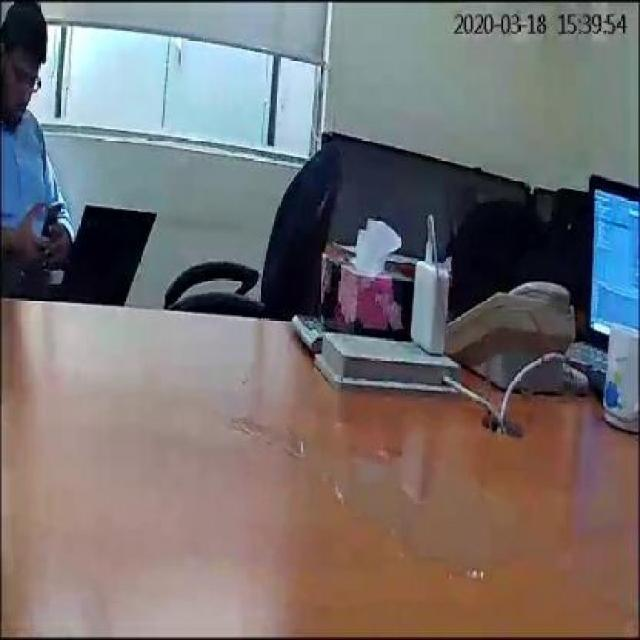spill: (228, 420, 540, 585)
